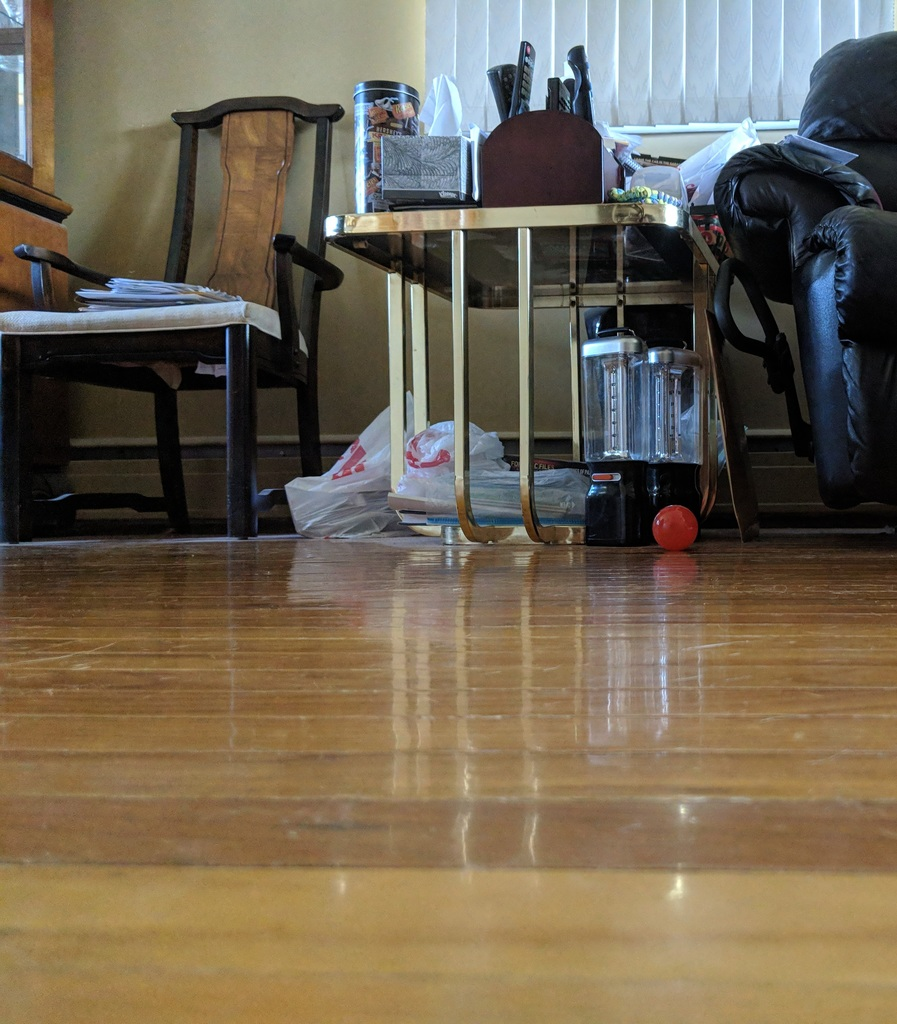ball: (650, 504, 700, 553)
